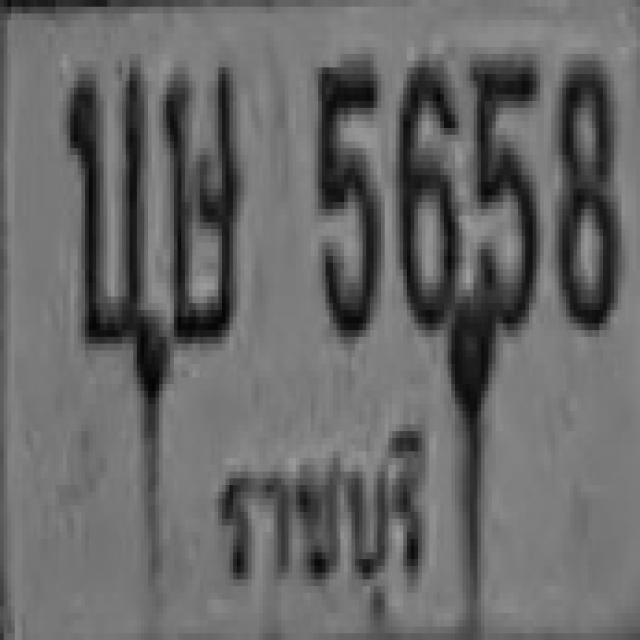35BorBaiMai: (61, 64, 154, 374), (61, 61, 146, 350)
48SorRueSi: (157, 57, 239, 340)
5: (464, 50, 535, 334), (312, 54, 376, 330)
6: (392, 54, 455, 323)
8: (553, 54, 616, 323)
Ratchaburi: (202, 414, 433, 639)
